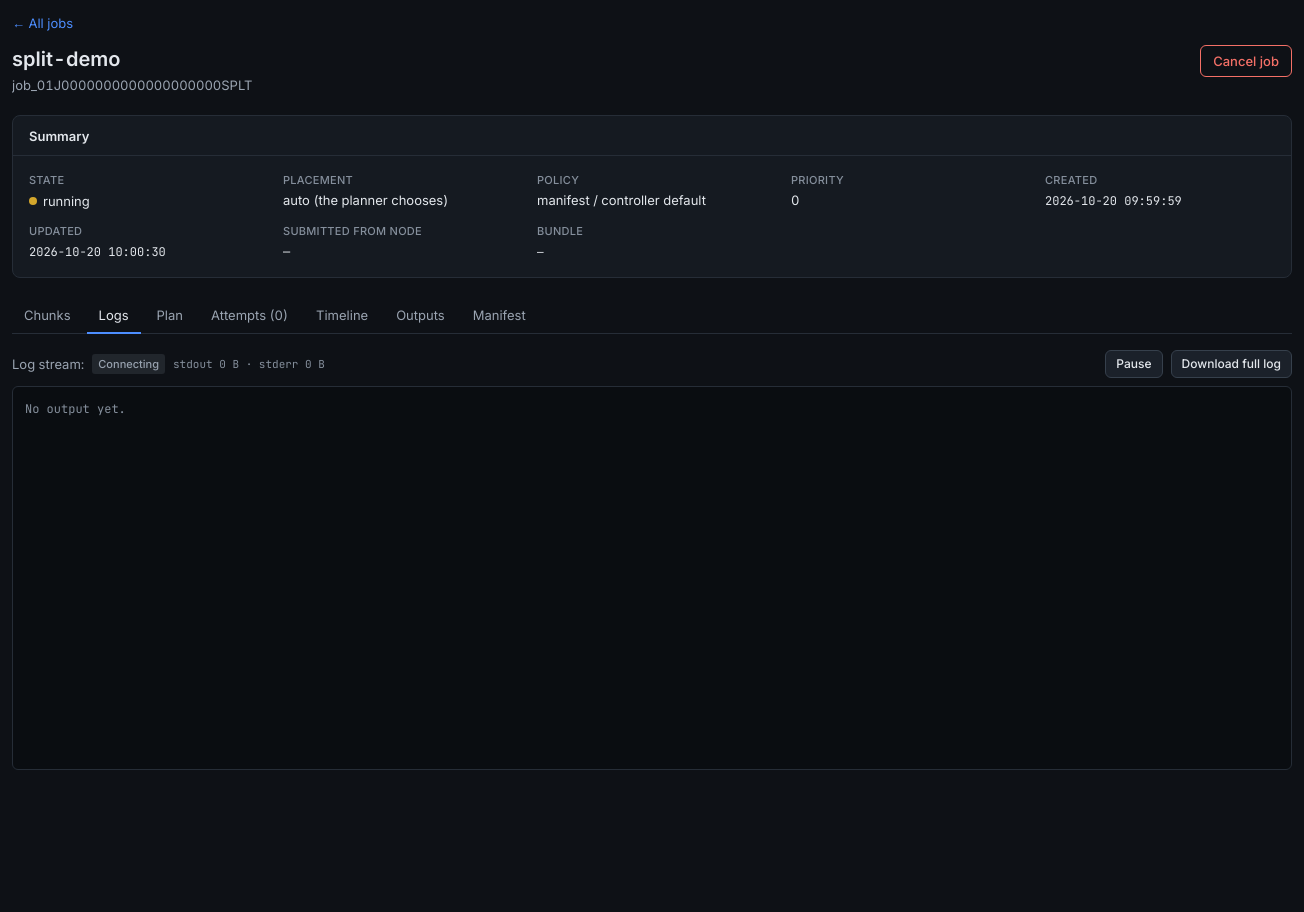
Chunks tab with odd numbers › eta is 'not measured yet' while nothing is measured (null), not 0 or a guess
Click the tab "Chunks" at (47, 316), box [12,298,83,334]
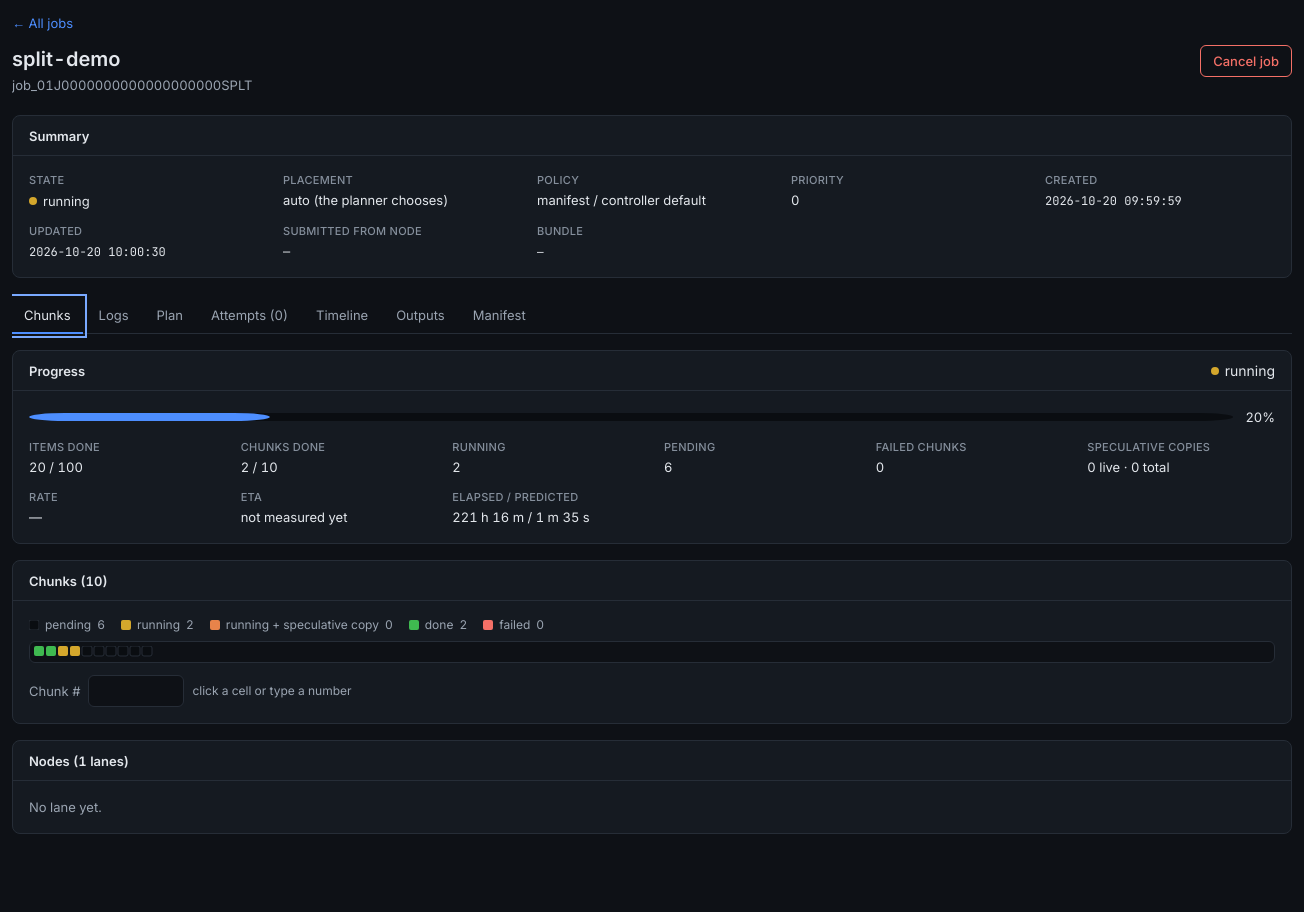
Expected: the element "Progress" is shown, [12,350,1292,544]
Expected: the text "not measured yet" is shown, [241,509,348,525]
